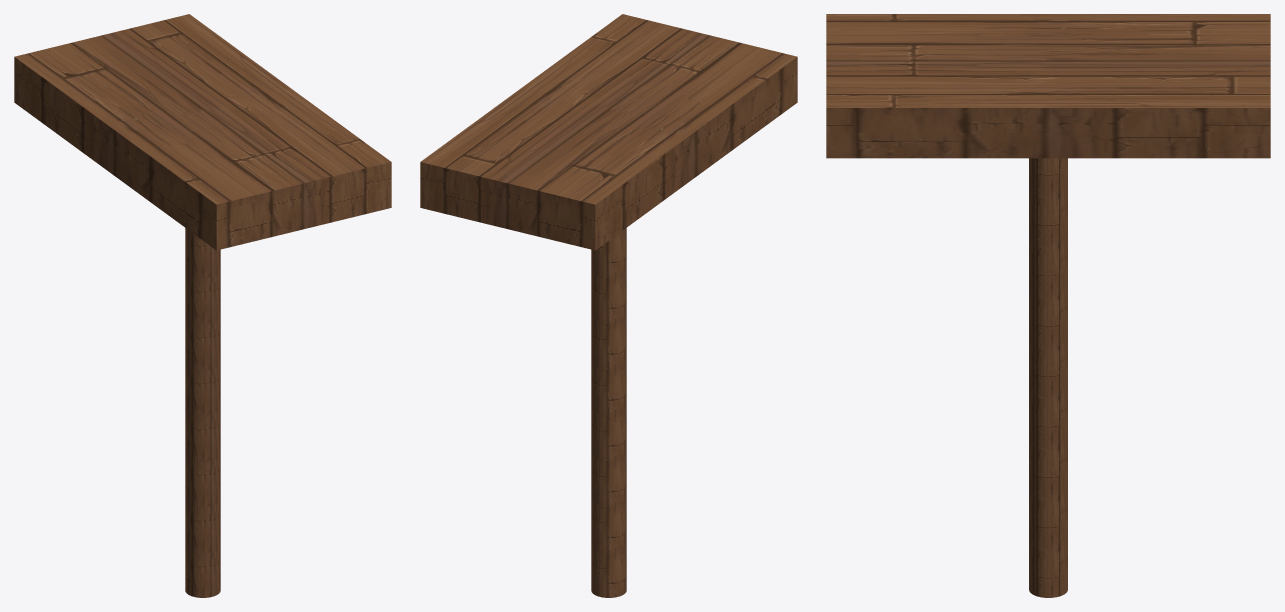
File: Narrow16.fbx
3 renders of one model, left to right at view 1: azimuth 30°, elevation 25°; view 2: azimuth 150°, elevation 25°; view 3: azimuth 270°, elevation 25°, orthographic. The views are drawn at different scales.
Parts seen in each view (by area): view 1: Ground, pillar.001; view 2: Ground, pillar.001; view 3: Ground, pillar.001.
Part boxes in pixels (<box>): Ground: <box>14,14,391,250</box>; pillar.001: <box>185,228,220,597</box>; Ground: <box>420,14,797,250</box>; pillar.001: <box>591,228,626,597</box>; Ground: <box>826,14,1270,158</box>; pillar.001: <box>1029,158,1067,597</box>.
Size of the model in its own units: 800 by 2100 by 1600.
